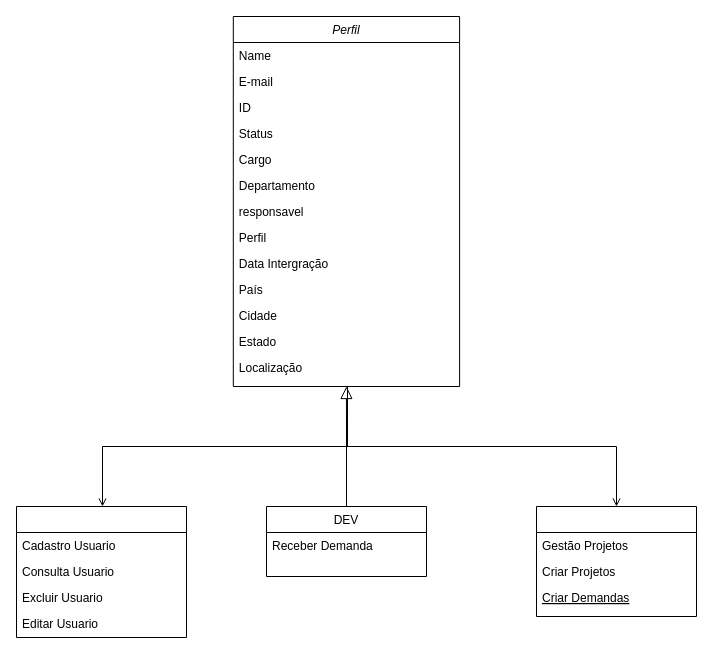
Some shapes in this 713 by 654 pixel diagram are drawn without their labels. Each missing label, with the box of its shape:
Administrador: (16, 506, 186, 638)
Gestor: (536, 506, 696, 616)
